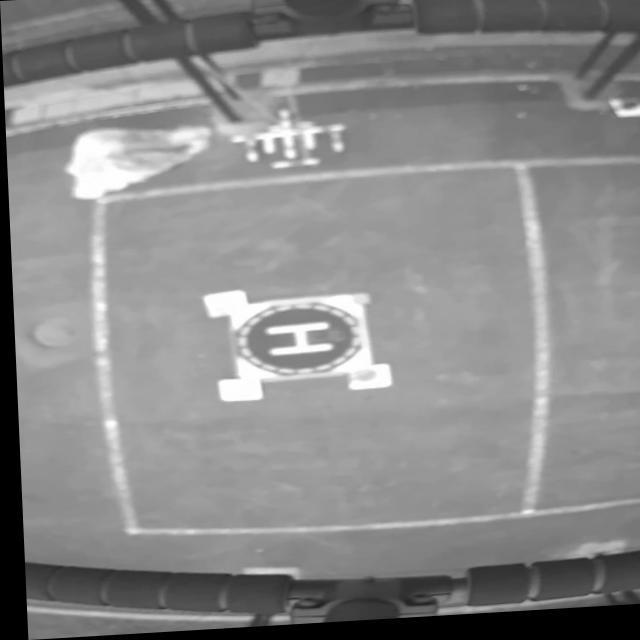Helipad: (264, 325, 330, 359)
